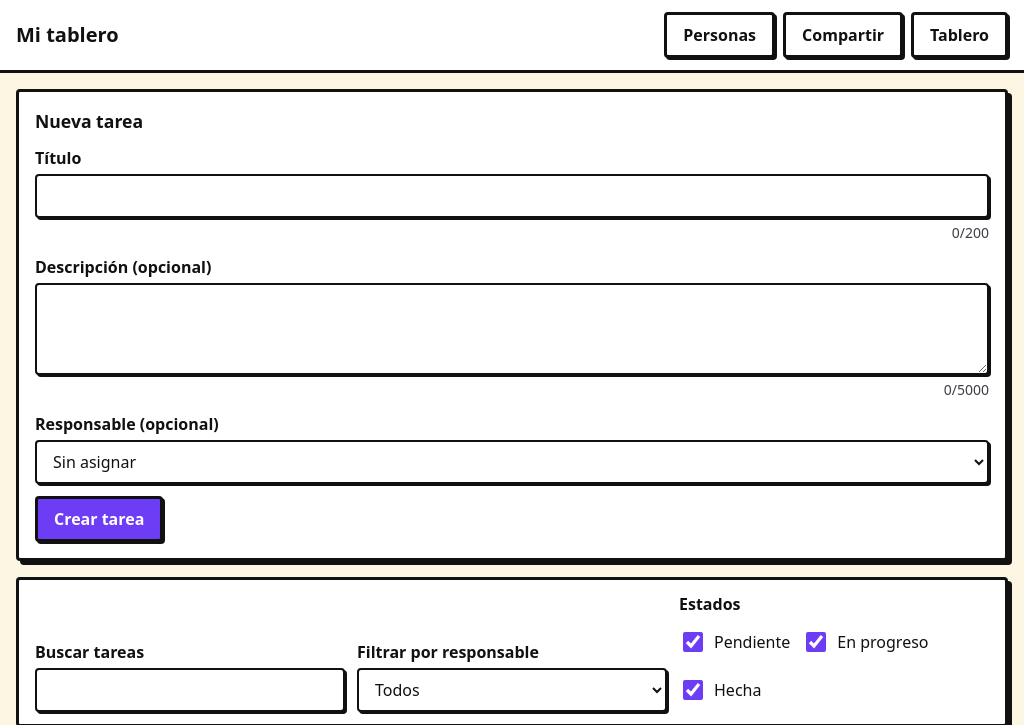
búsqueda y filtros (US4) › avisa si la tarea creada no se ve por los filtros activos
Type "factura" into the search field labelled "Buscar tareas". click: [190, 690]
box: [35,668,345,712]
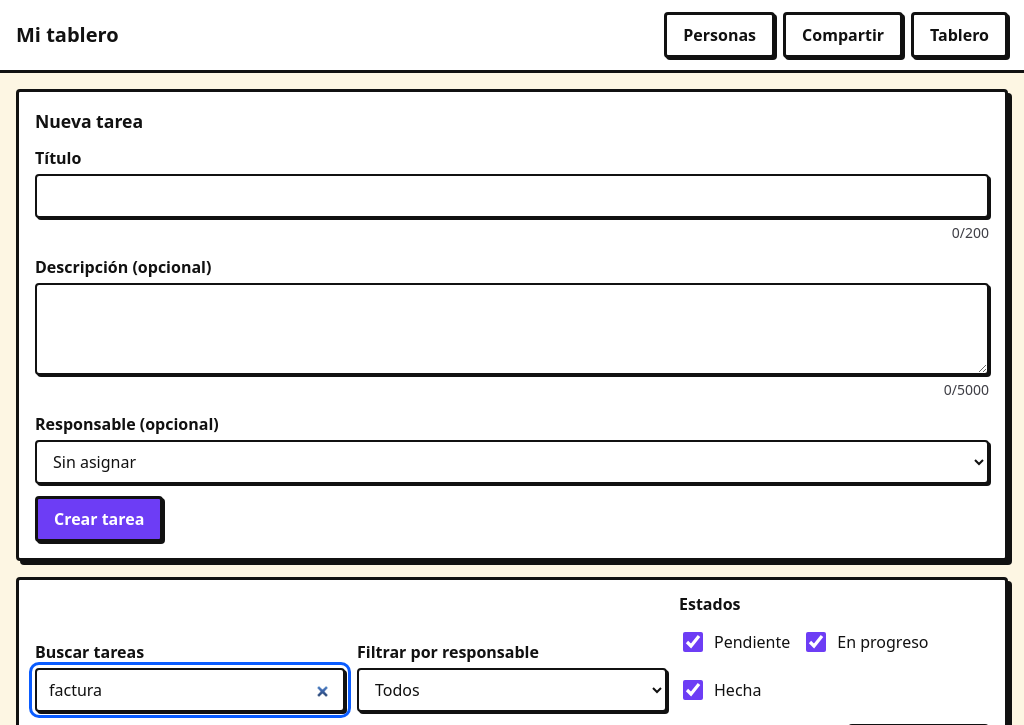
Type "Llamar al proveedor" into the field labelled "Título". click: [512, 196]
box: [35,174,989,218]
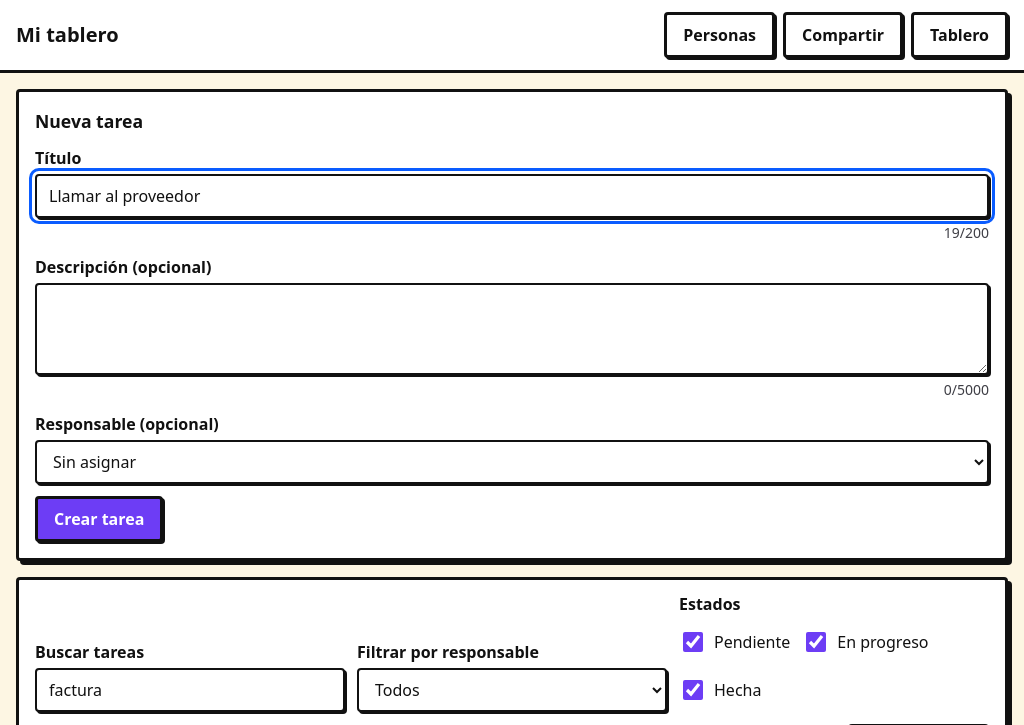
Click the button "Crear tarea". click: [99, 519]
box: [35,496,163,542]
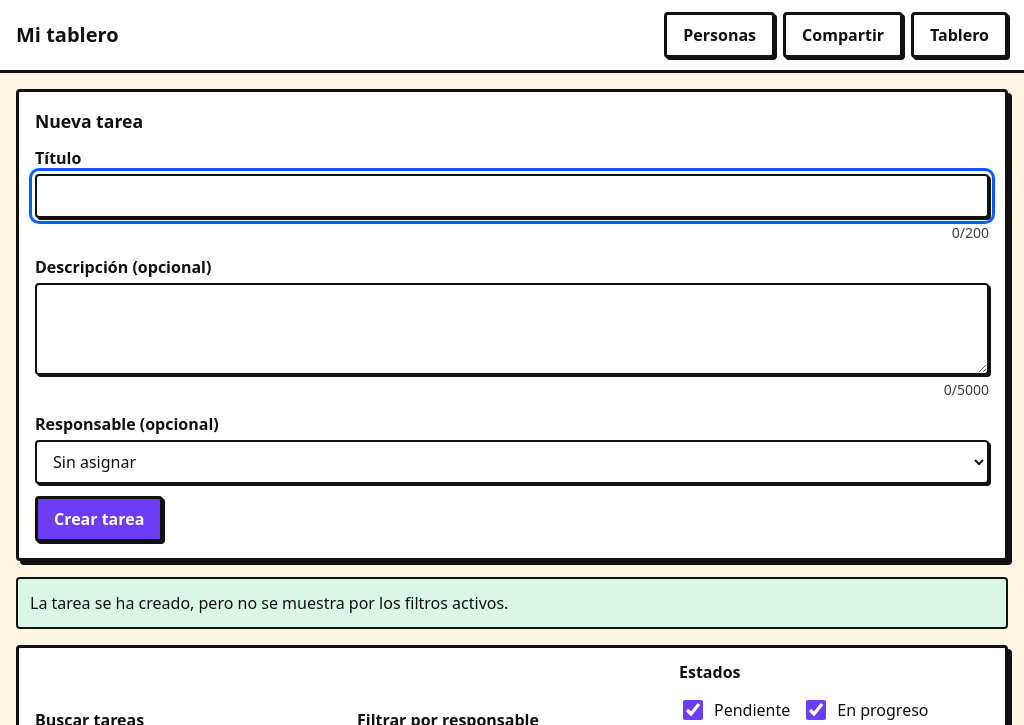
Result: the text "La tarea se ha creado, pero no se muestra por los filtros activos." is shown at [16,577,1008,629]
